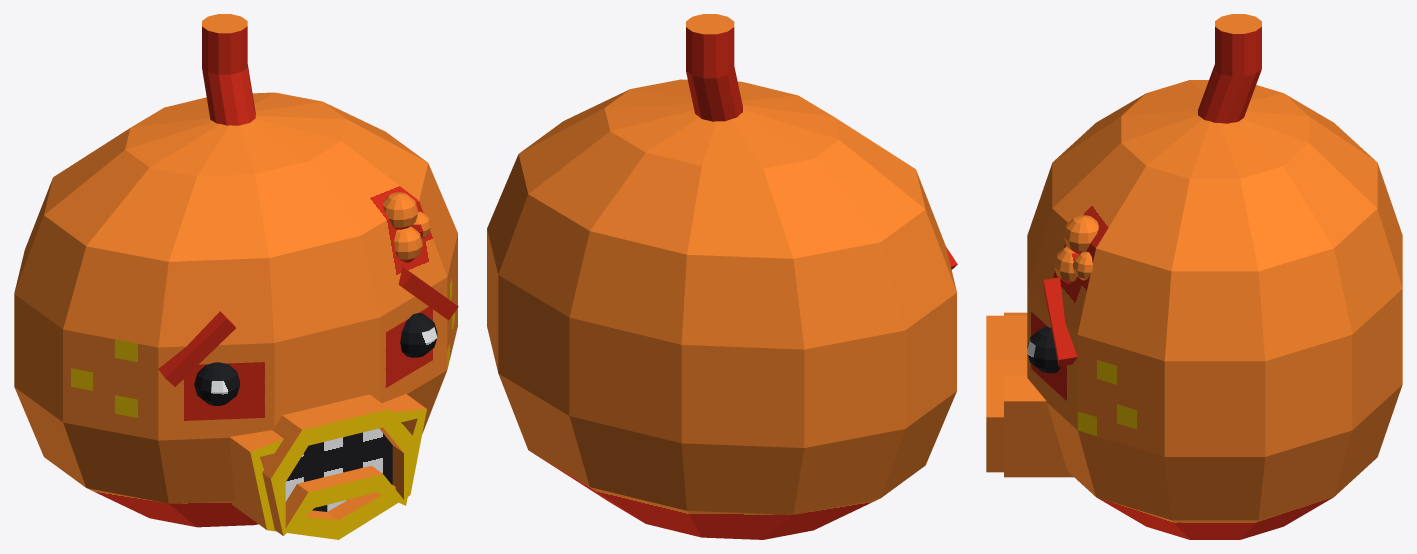
The model's file is PumpkinFace.gltf.
The picture shows the model from 3 angles, left to right: view 1: azimuth 30°, elevation 25°; view 2: azimuth 150°, elevation 25°; view 3: azimuth 270°, elevation 25°; orthographic projection. The views are drawn at different scales.
Parts seen in each view (by area): view 1: PumpkinTop, LipsOutside, Lips, Stem, Mouth, MouthHole, MouthFront, Brows, Eye (×2), Pustules; view 2: PumpkinTop, Stem; view 3: PumpkinTop, Mouth, Stem, Lips, Pustules, Brows, Eye.
Part boxes in pixels (x1,y1,x2,y2): PumpkinTop: (14,92,457,527); LipsOutside: (271,409,418,535); Lips: (260,394,403,535); Stem: (202,14,255,125); Mouth: (229,394,426,529); MouthHole: (285,428,392,501); MouthFront: (250,409,426,539); Brows: (158,267,458,386); Eye (×2): (194,313,437,405); Pustules: (383,192,430,262); PumpkinTop: (487,79,956,539); Stem: (686,14,742,121); PumpkinTop: (1027,80,1402,539); Mouth: (1004,312,1073,477); Stem: (1198,14,1261,123); Lips: (986,315,1027,472); Pustules: (1054,215,1098,283); Brows: (1043,187,1077,366); Eye: (1027,326,1060,373).
Size of the model in its own units: 1.25 by 1.38 by 1.11.
Materials: 13 (13 with a texture image).
